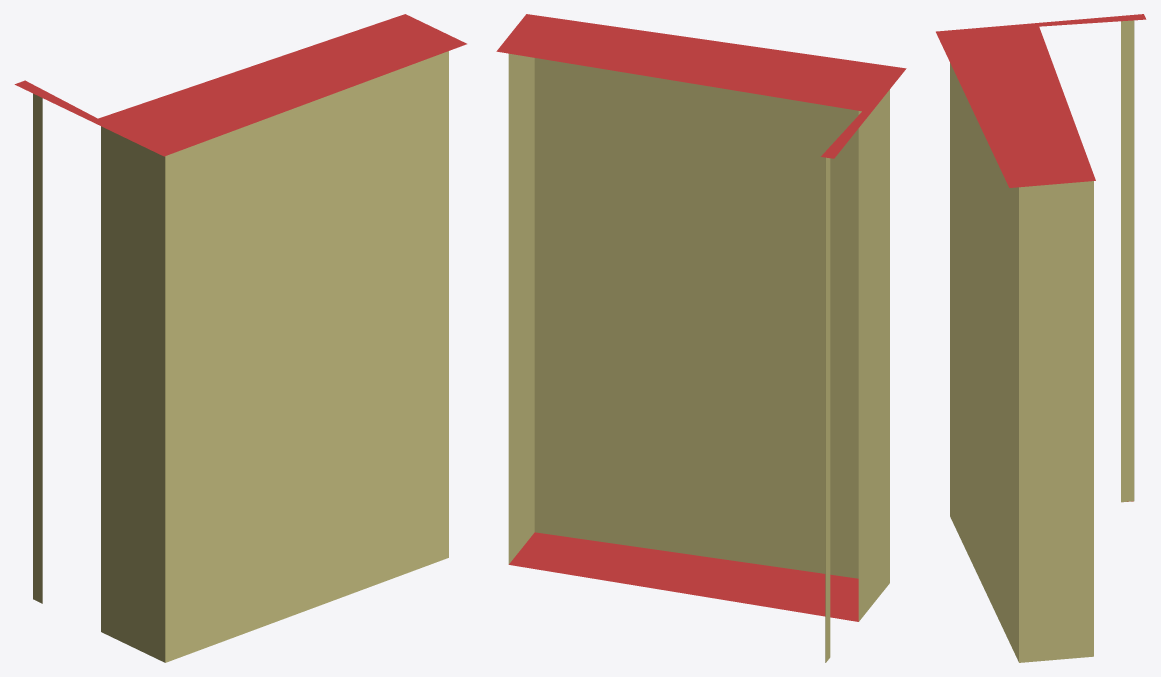
3 renders of one model, left to right at view 1: azimuth 30°, elevation 25°; view 2: azimuth 150°, elevation 25°; view 3: azimuth 270°, elevation 25°, orthographic. The views are drawn at different scales.
Bounding box in the file's own units: 8.28 × 4.24 × 10.67.
